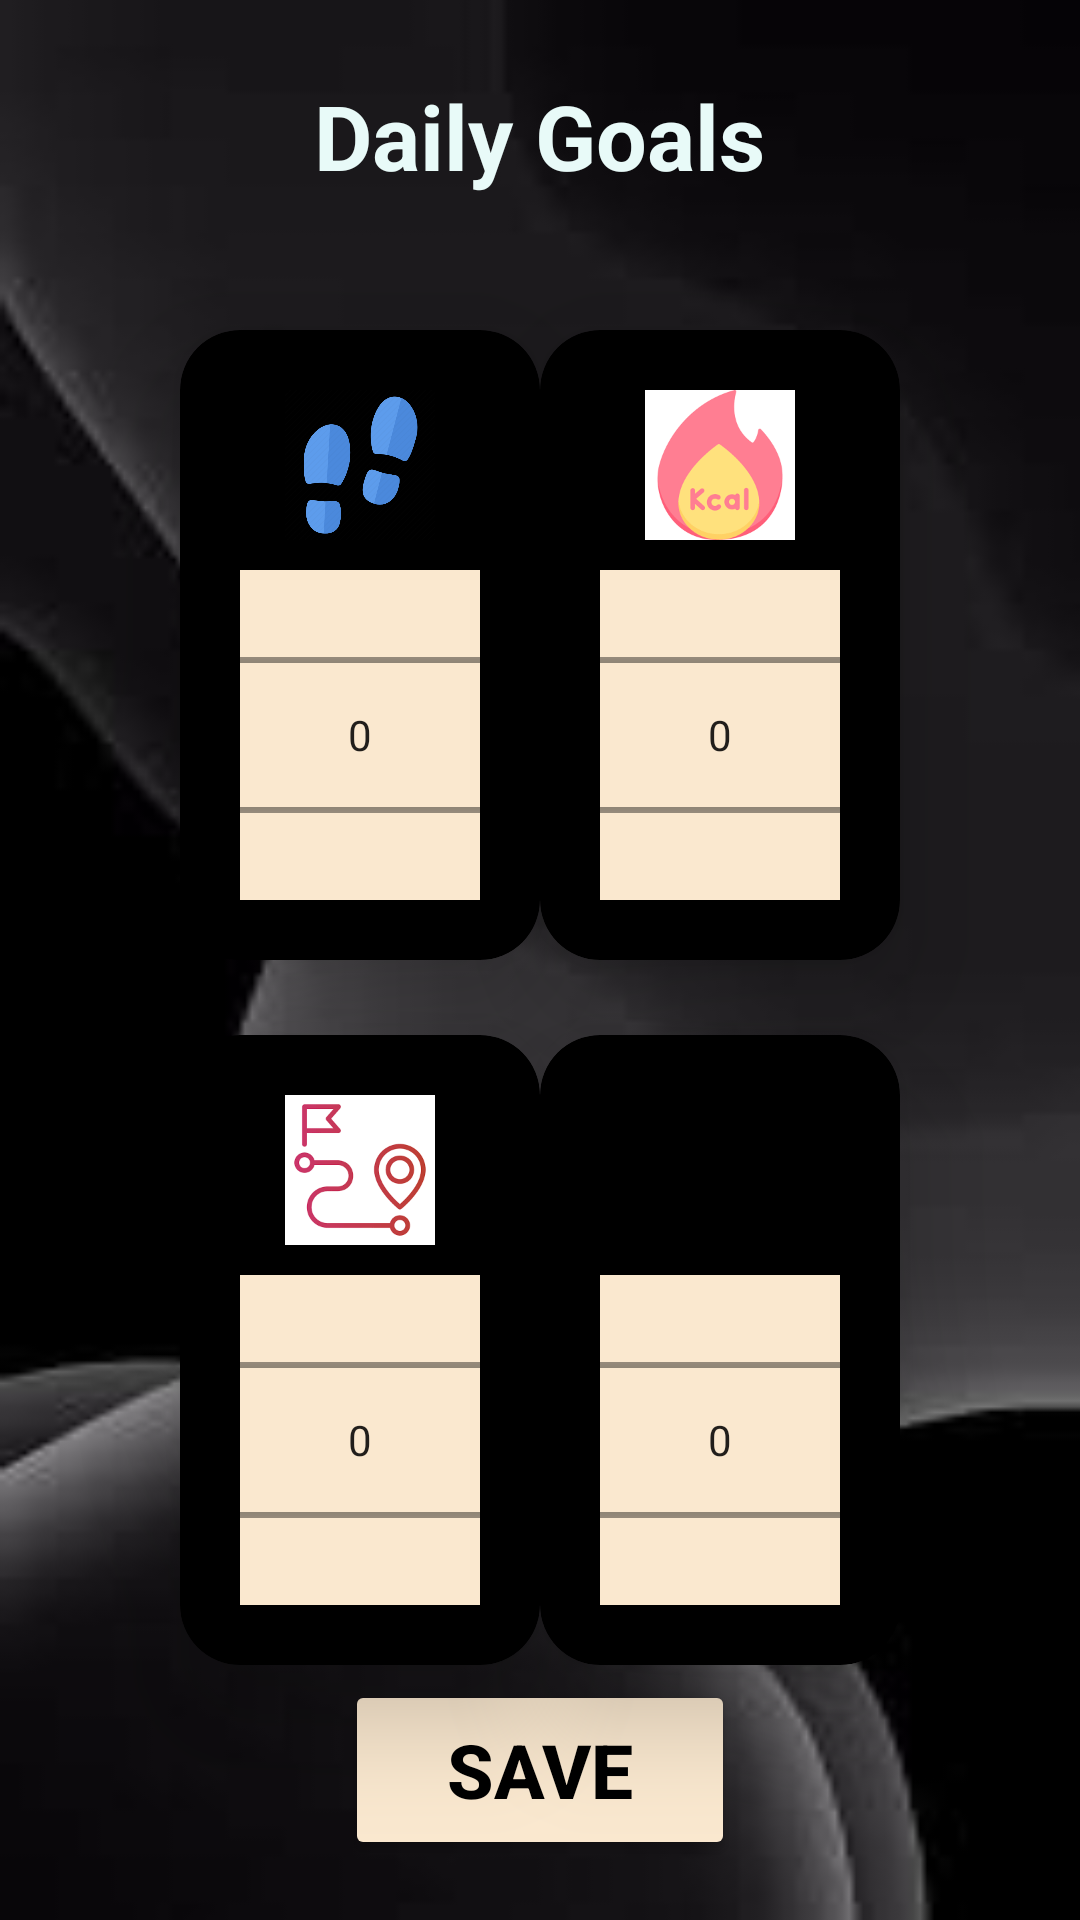

Screen size 1080 × 1920. Icon name, then its box in pixels as (x1, y1, x2, y2):
distance: (285, 1095, 435, 1245)
steps: (304, 396, 418, 534)
